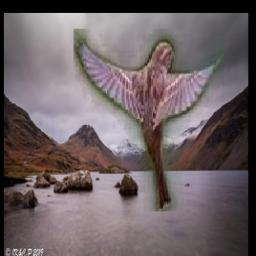Sparrow: (74, 29, 224, 211)
